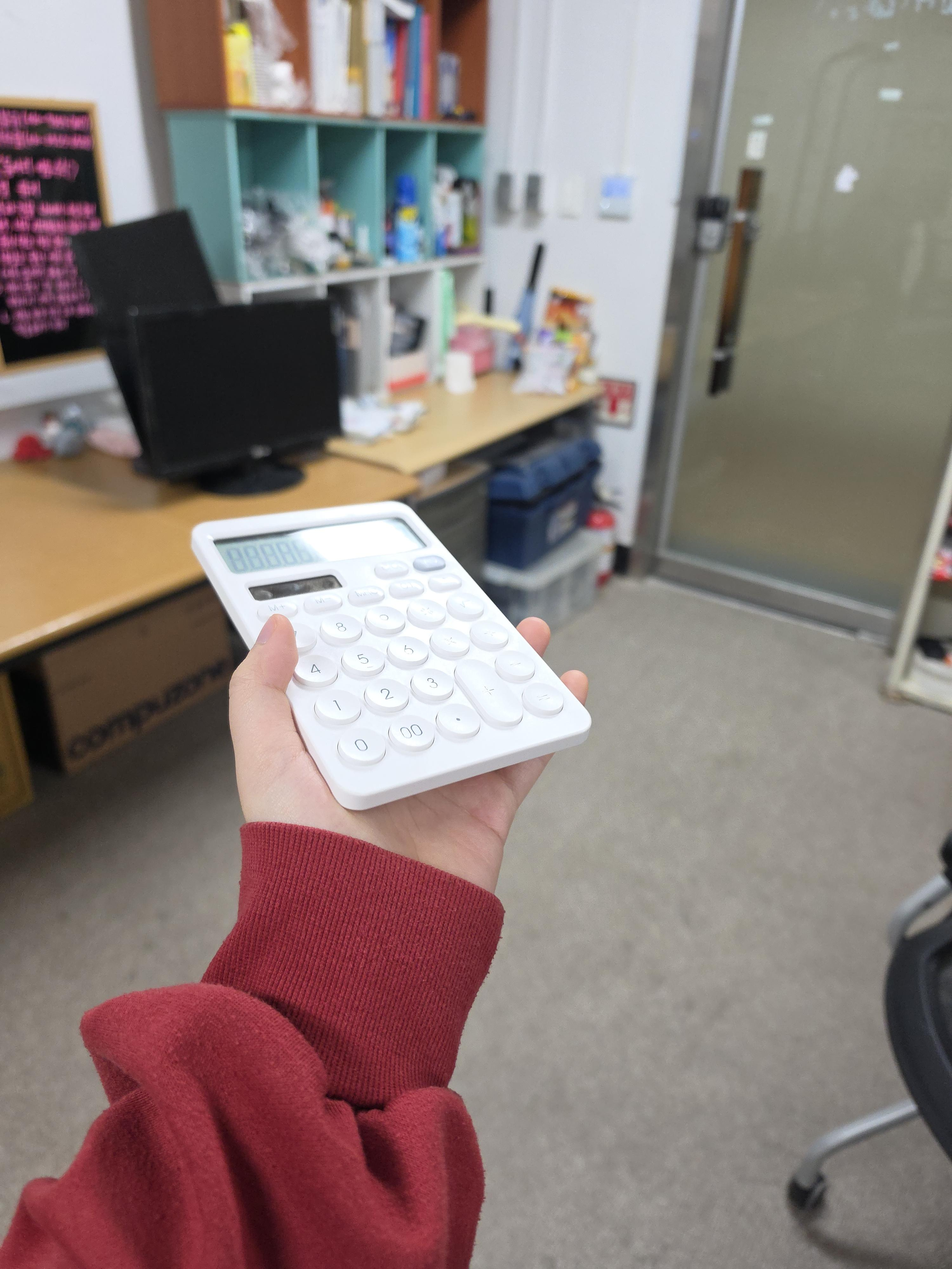calculator: (190, 500, 592, 811)
